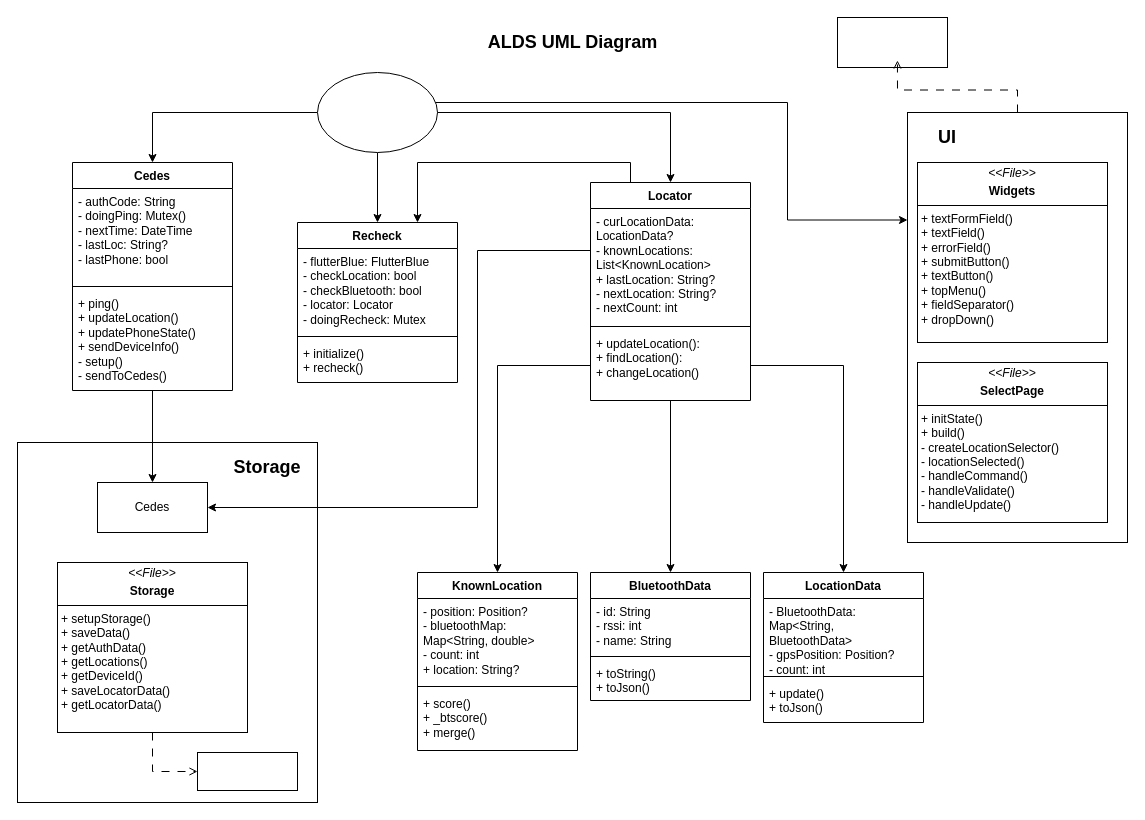
Some shapes in this 1145 by 820 pixel diagram are drawn without their labels. The shapes that lost their labels are listed below. From the top down, each one's centre as x and y in pixels, then its label:
point 892,42: «Library» Material
point 377,112: Main
point 247,771: Hive
